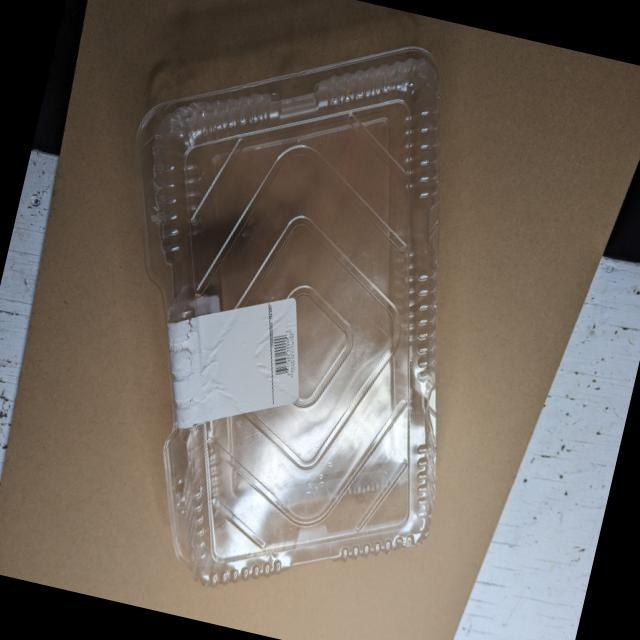Clamshell: (8, 0, 553, 640)
Label: (137, 272, 329, 458)
